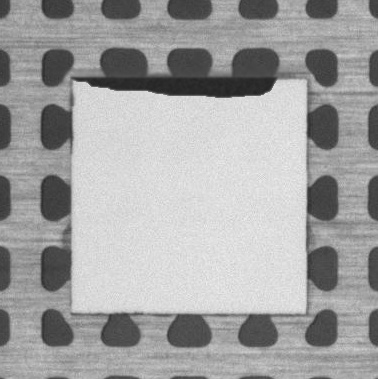DIE_BROKEN: (74, 71, 280, 98)
